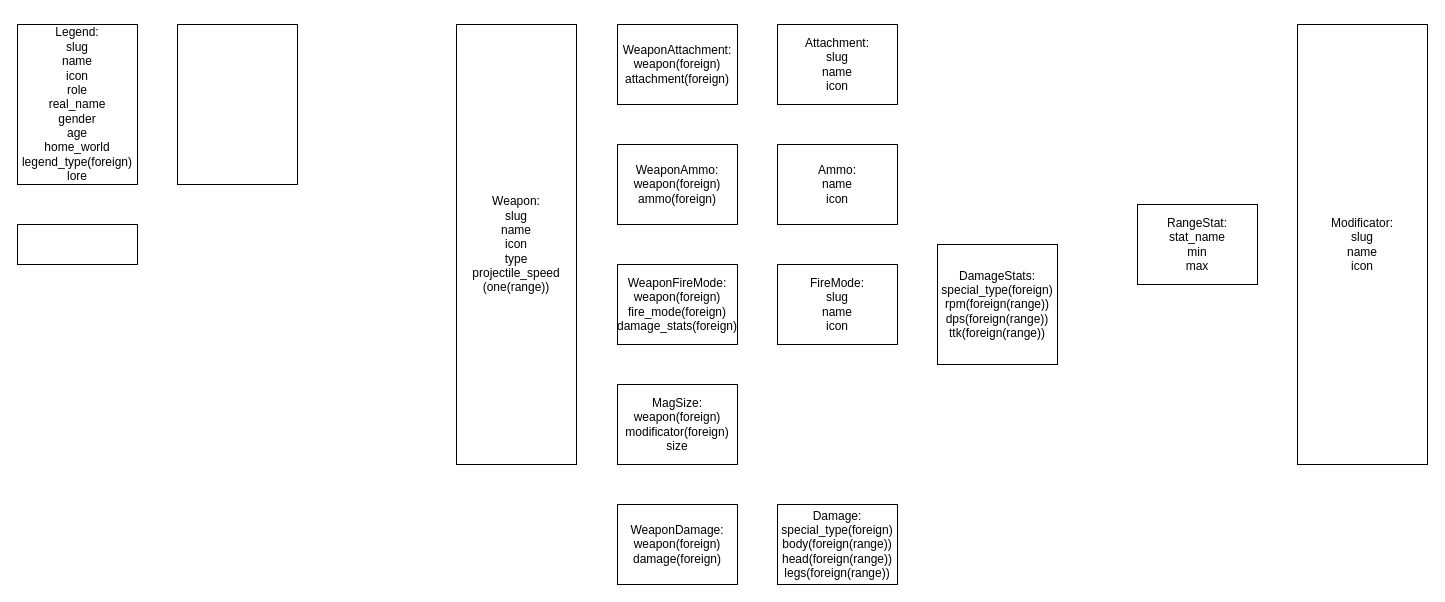
The diagram is 1445 pixels wide and 602 high, and some of its shapes have lost their labels. Here are the shapes that lost their labels. From the top down, the centre of each, then its label:
point 237,104: Ability: slug legend(foreign) name icon ability_type description cooldown info
point 77,244: LegendType: name icon
